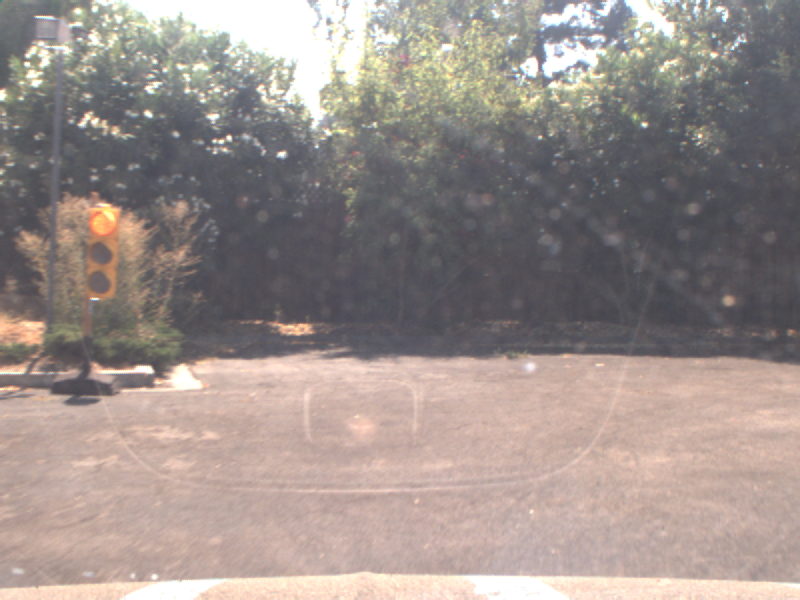red: (84, 202, 120, 301)
